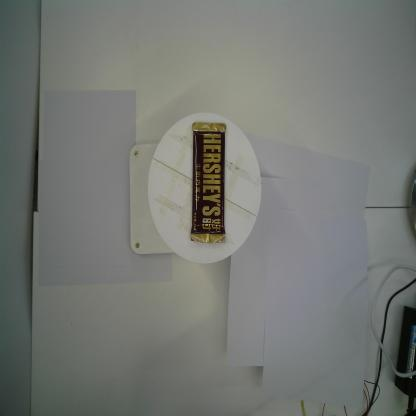Chocolate: (190, 120, 227, 245)
